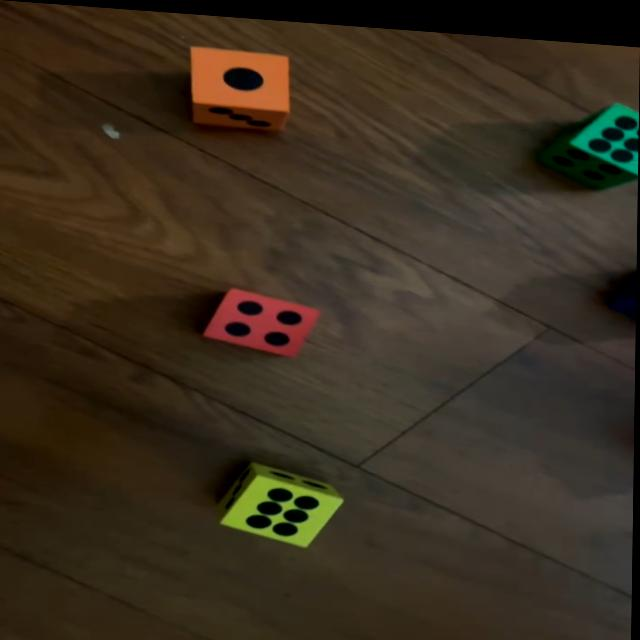cube: (204, 282, 322, 355), (544, 92, 639, 182)
